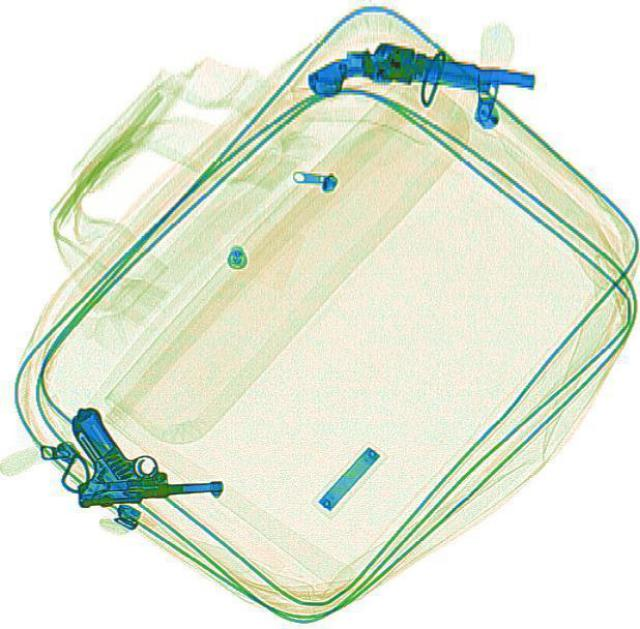Gun: (306, 34, 536, 117), (64, 391, 224, 507)
